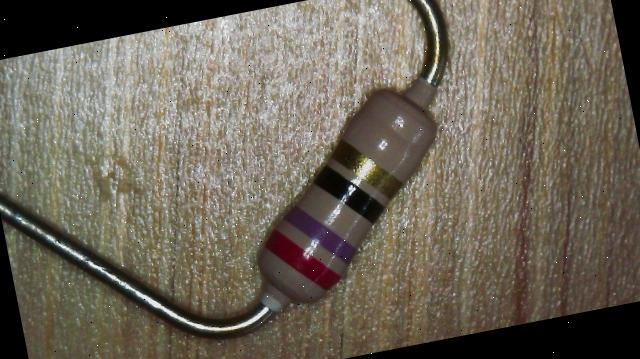black: (313, 156, 387, 230)
gold: (328, 129, 406, 208)
red: (263, 220, 337, 298)
resistor: (220, 63, 464, 322)
violet: (283, 195, 358, 272)
